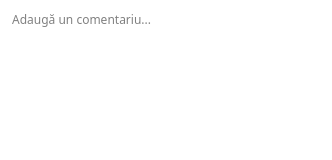
Test case: CommentSection › shows empty state when no comments
This screenshot has width=332, height=160.
Click the button "Adaugă un comentariu..." at x=82, y=20, box x1=12 y1=12 x2=151 y2=28
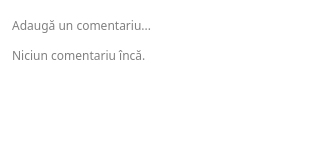
Expected: the text "Niciun comentariu încă." is shown, x1=12 y1=47 x2=145 y2=64
